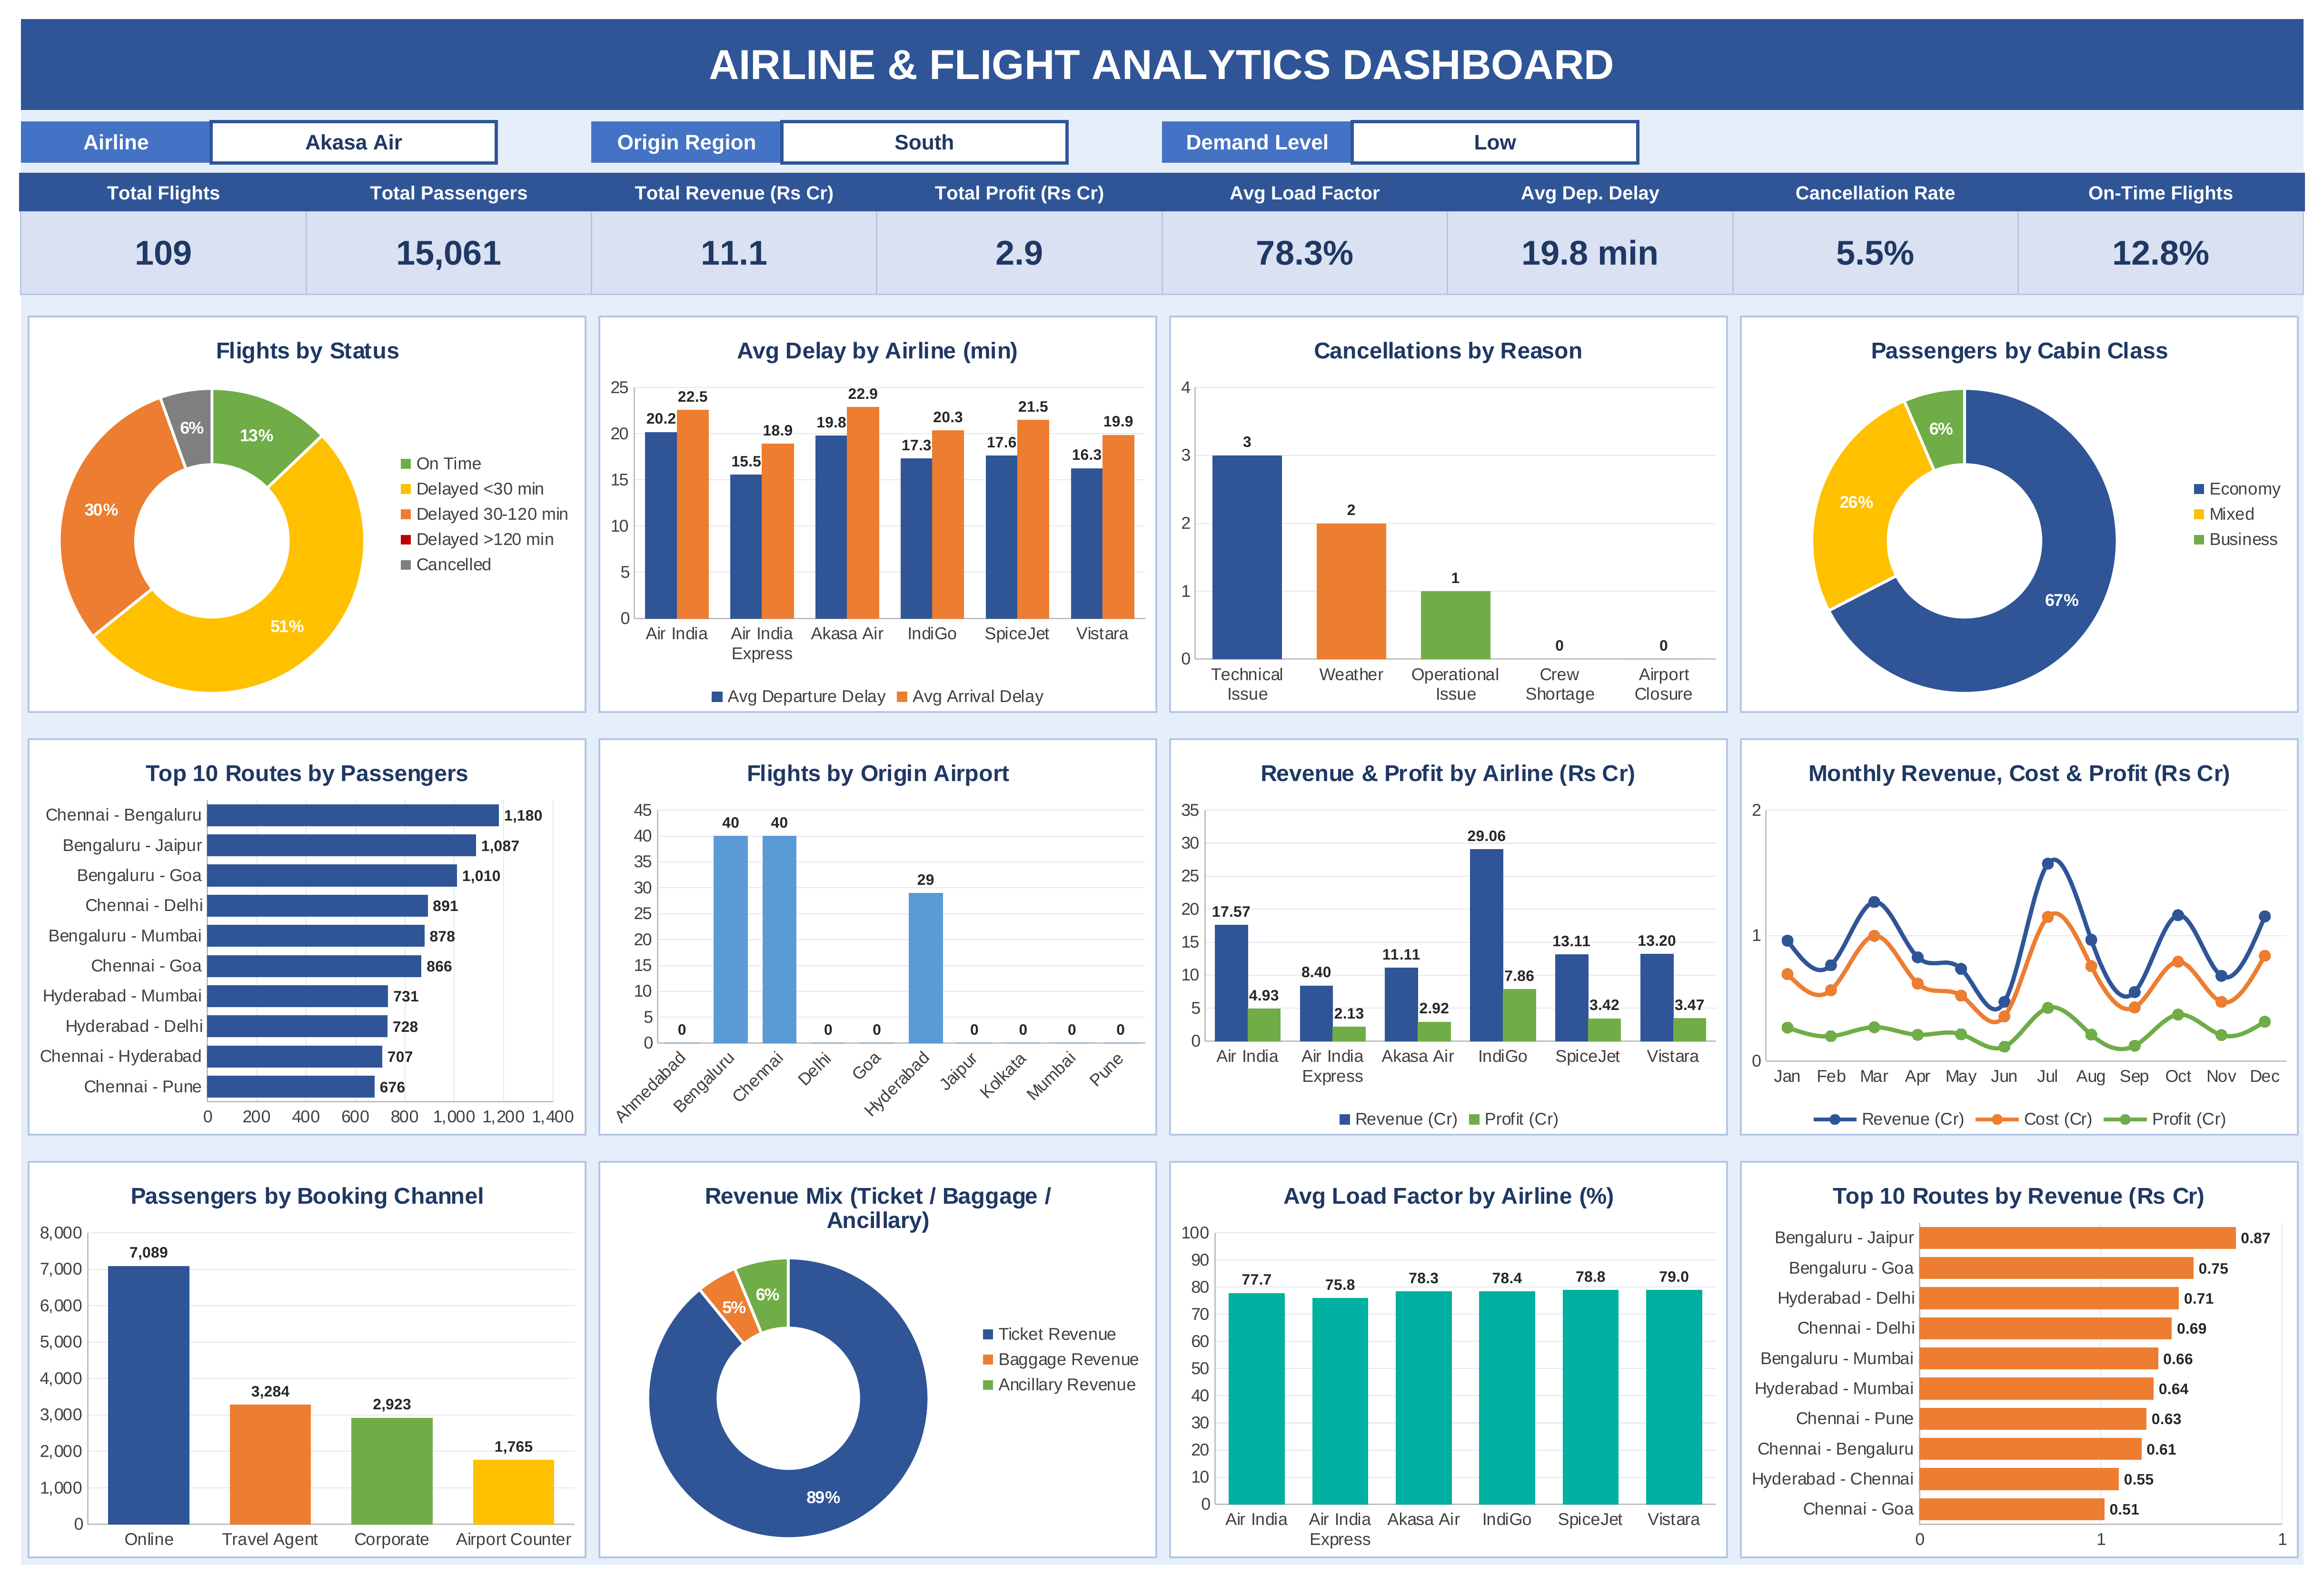

The dashboard page shown, as its layout file describes it:
{"tool":"powerbi","page":{"name":"Dashboard","canvas":[1280,720],"ordinal":0},"visuals":[{"type":"textbox","box":[20,8,760,56],"z":0},{"type":"slicer","fields":{"Values":["Flight_Data.Airline"]},"box":[790,14,230,46],"z":1000},{"type":"slicer","fields":{"Values":["Flight_Data.Month"]},"box":[1035,14,225,46],"z":2000},{"type":"card","fields":{"Values":["Flight_Data.Total Flights"]},"box":[20.5,70,170.1,90.5],"z":3000},{"type":"card","fields":{"Values":["Flight_Data.Delay Rate"]},"box":[197.9,70,171.3,90.5],"z":4000},{"type":"card","fields":{"Values":["Flight_Data.Cancellation Rate"]},"box":[376.4,70,170.1,90.5],"z":5000},{"type":"card","fields":{"Values":["Flight_Data.Total Passengers"]},"box":[555,70,170.1,90.5],"z":6000},{"type":"card","fields":{"Values":["Flight_Data.Load Factor"]},"box":[733.5,70,170.1,90.5],"z":7000},{"type":"card","fields":{"Values":["Flight_Data.Total Revenue"]},"box":[910.9,70,171.3,90.5],"z":8000},{"type":"card","fields":{"Values":["Flight_Data.Total Profit"]},"box":[1089.4,70,170.1,90.5],"z":9000},{"type":"donutChart","title":"Flights by Status","fields":{"Category":["Flight_Data.Flight_Status"],"Y":["Flight_Data.Total Flights"]},"box":[20,160,302.5,268],"z":10000},{"type":"clusteredBarChart","title":"Avg Departure Delay by Airline","fields":{"Category":["Flight_Data.Airline"],"Y":["Flight_Data.Avg Departure Delay"]},"box":[332.5,160,302.5,268],"z":11000},{"type":"donutChart","title":"Cancellations by Reason","fields":{"Category":["Flight_Data.Cancellation_Reason"],"Y":["Flight_Data.Cancelled Flights"]},"box":[645,160,302.5,268],"z":12000},{"type":"donutChart","title":"Passengers by Cabin Class","fields":{"Category":["Flight_Data.Cabin_Class"],"Y":["Flight_Data.Total Passengers"]},"box":[957.5,160,302.5,268],"z":13000},{"type":"clusteredBarChart","title":"Passengers by Destination City","fields":{"Category":["Flight_Data.Destination_City"],"Y":["Flight_Data.Total Passengers"]},"box":[20,438,302.5,268],"z":14000},{"type":"clusteredBarChart","title":"Flights by Origin Airport","fields":{"Category":["Flight_Data.Origin_Airport"],"Y":["Flight_Data.Total Flights"]},"box":[332.5,438,302.5,268],"z":15000},{"type":"clusteredColumnChart","title":"Profit by Airline","fields":{"Category":["Flight_Data.Airline"],"Y":["Flight_Data.Total Profit"]},"box":[645,438,302.5,268],"z":16000},{"type":"lineChart","title":"Revenue by Month","fields":{"Category":["Flight_Data.Month"],"Y":["Flight_Data.Total Revenue"]},"box":[957.5,438,302.5,268],"z":17000}]}

Visuals, with their boxes on the page's 1280x720 design canvas (x1, y1, x2, y2). These are canvas units, not pixel positions in the 2324x1584 screenshot, which may show the page scaled, cropped or inside an application window:
textbox: bbox=[20, 8, 780, 64]
slicer - Flight_Data.Airline: bbox=[790, 14, 1020, 60]
slicer - Flight_Data.Month: bbox=[1035, 14, 1260, 60]
card - Flight_Data.Total Flights: bbox=[20, 70, 191, 160]
card - Flight_Data.Delay Rate: bbox=[198, 70, 369, 160]
card - Flight_Data.Cancellation Rate: bbox=[376, 70, 546, 160]
card - Flight_Data.Total Passengers: bbox=[555, 70, 725, 160]
card - Flight_Data.Load Factor: bbox=[734, 70, 904, 160]
card - Flight_Data.Total Revenue: bbox=[911, 70, 1082, 160]
card - Flight_Data.Total Profit: bbox=[1089, 70, 1260, 160]
"Flights by Status" donutChart: bbox=[20, 160, 322, 428]
"Avg Departure Delay by Airline" clusteredBarChart: bbox=[332, 160, 635, 428]
"Cancellations by Reason" donutChart: bbox=[645, 160, 948, 428]
"Passengers by Cabin Class" donutChart: bbox=[958, 160, 1260, 428]
"Passengers by Destination City" clusteredBarChart: bbox=[20, 438, 322, 706]
"Flights by Origin Airport" clusteredBarChart: bbox=[332, 438, 635, 706]
"Profit by Airline" clusteredColumnChart: bbox=[645, 438, 948, 706]
"Revenue by Month" lineChart: bbox=[958, 438, 1260, 706]
